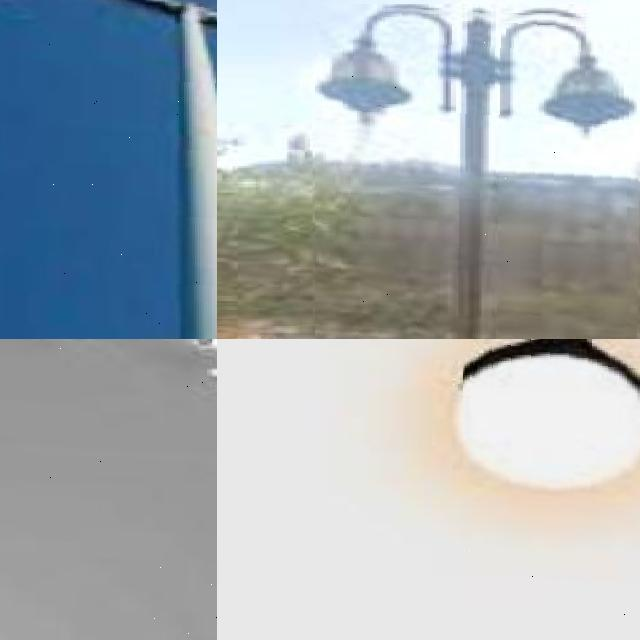street light: (315, 4, 640, 339), (0, 0, 217, 339), (0, 339, 217, 640), (463, 339, 640, 640)
